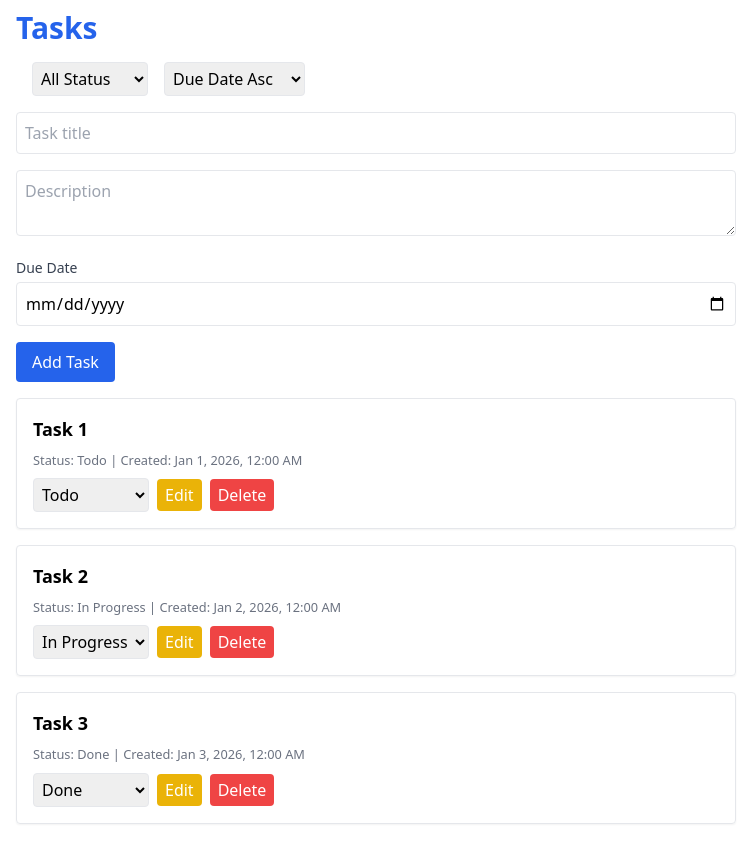
TaskList › filters tasks by status
The image size is (753, 841).
Expected: the text "Task 1" is shown, [33,417,88,441]
Select "In Progress" in the 1st dropdown named "Filter by Status" at (90, 79), box [32,62,148,96]
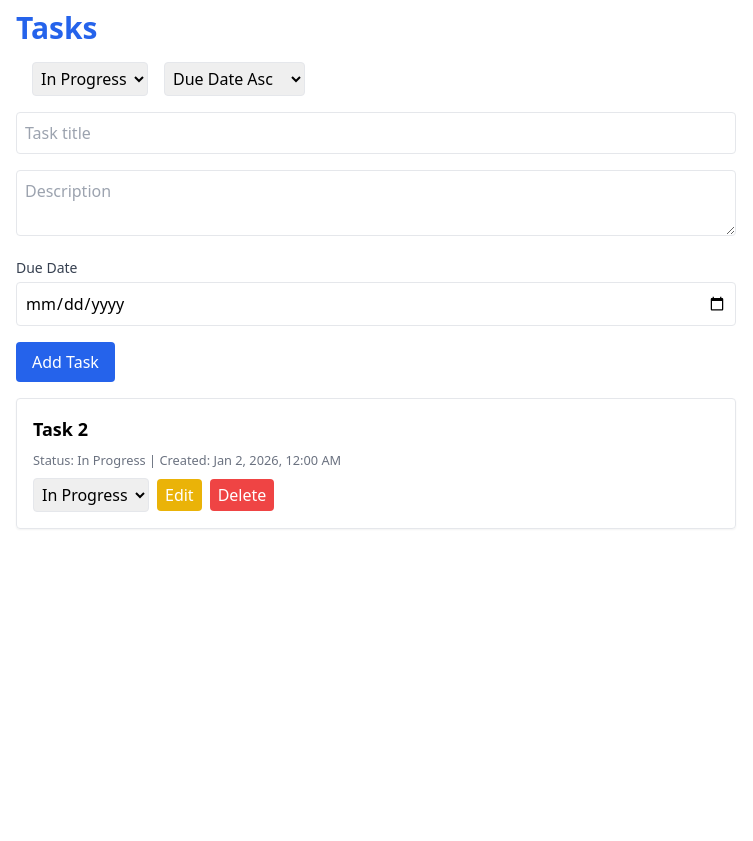
Expected: the text "Task 2" is shown, [33,417,88,441]
Now the text "Task 1" is gone
Now the text "Task 3" is gone
